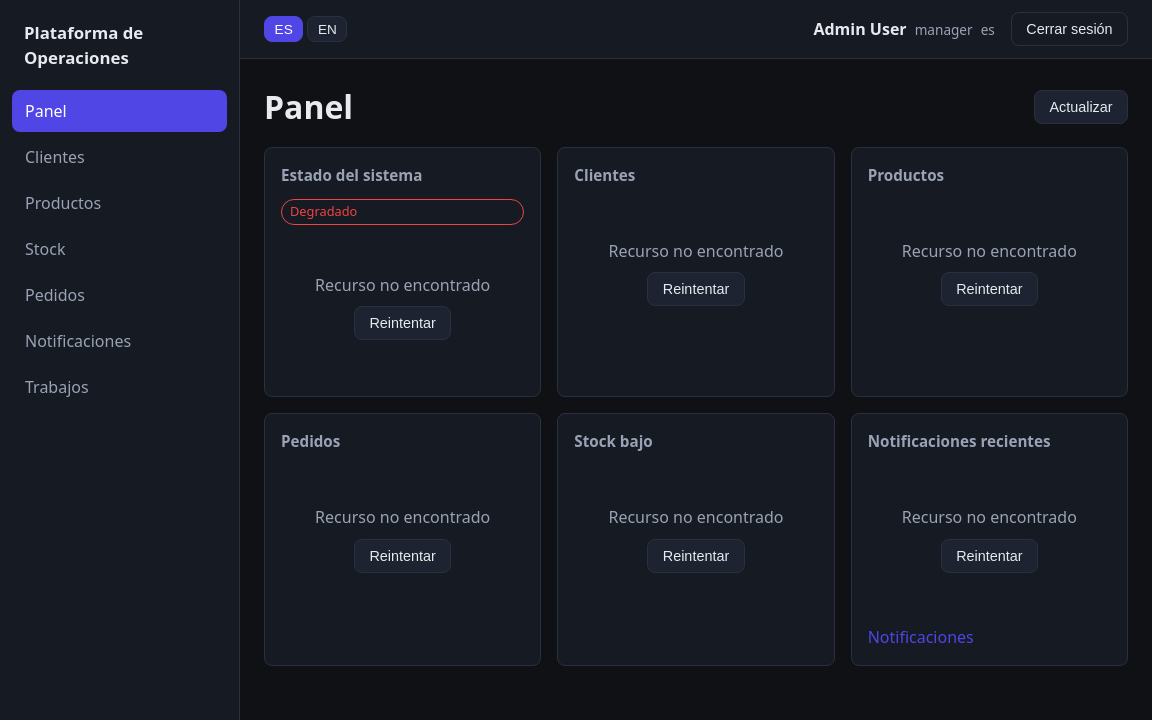
R-RBAC-4: mid-session demotion — next /api/auth/me re-renders visibility › R-RBAC-4: manager demoted to operator — sidebar drops "Trabajos" after the me() re-fetch
Expected: the heading "Panel" is shown, x1=264 y1=83 x2=353 y2=131
Click the link "Pedidos" at point(55, 295), box x1=25 y1=284 x2=85 y2=306
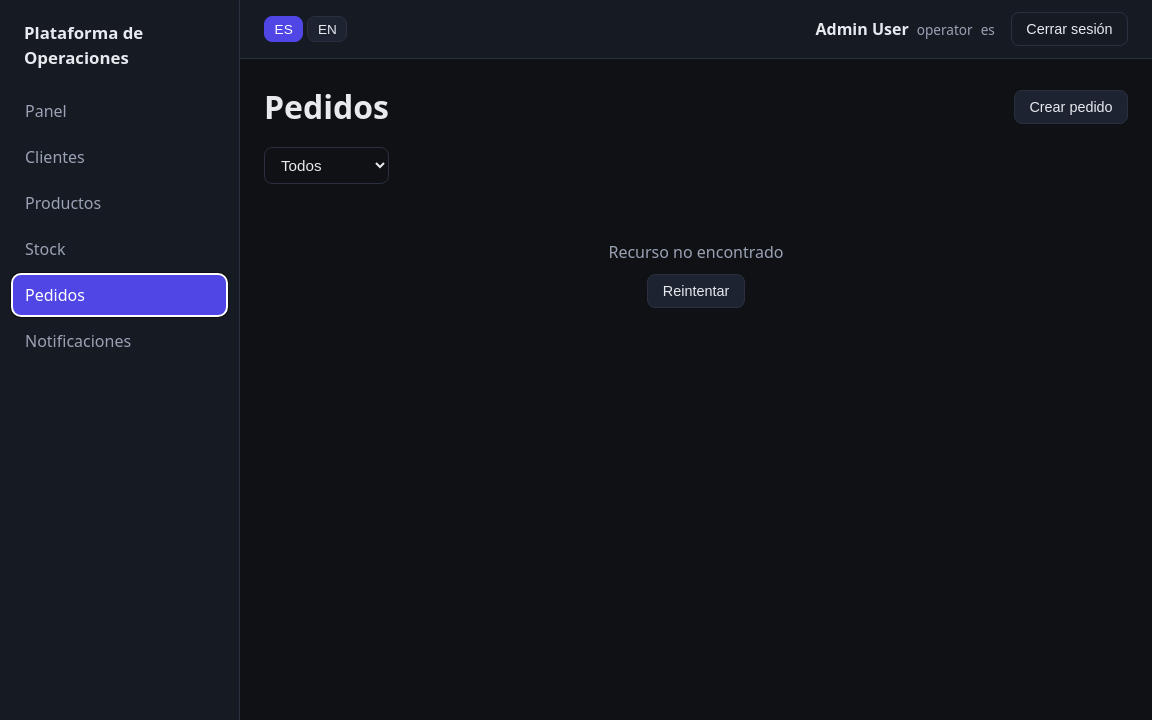
Now the link "Trabajos" is gone
